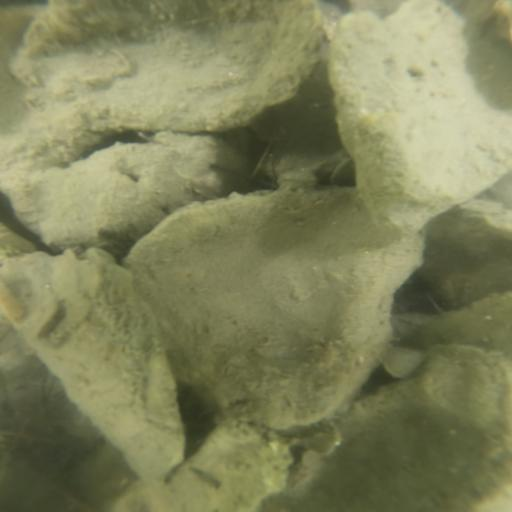Oyster-Closed: (125, 185, 430, 431), (251, 344, 512, 511), (1, 252, 187, 485), (10, 1, 326, 131), (337, 2, 509, 239), (418, 200, 512, 309)
